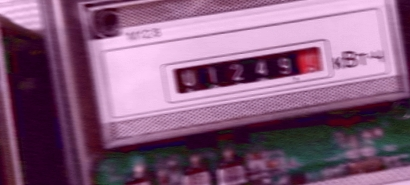0: (181, 68, 196, 90)
1: (206, 66, 218, 86)
2: (230, 63, 245, 84)
4: (254, 59, 267, 79)
7: (302, 49, 316, 69)
9: (277, 56, 293, 79)
screen: (154, 40, 333, 104)
